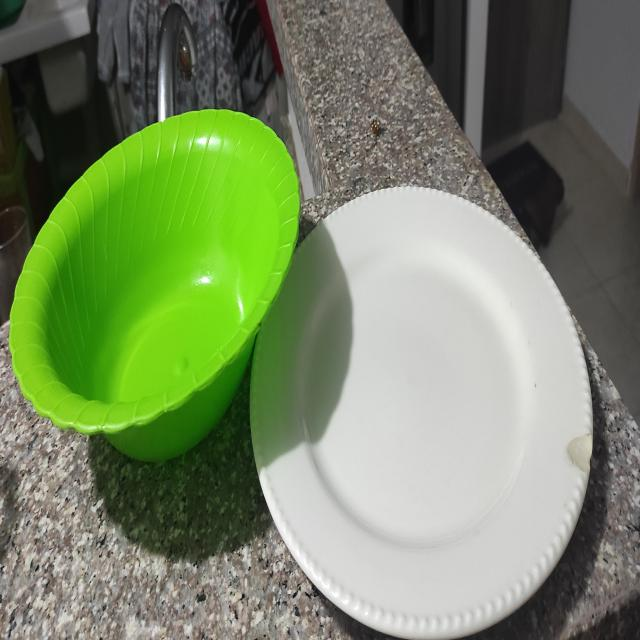non-organic waste: (232, 182, 622, 640), (3, 83, 308, 493)
